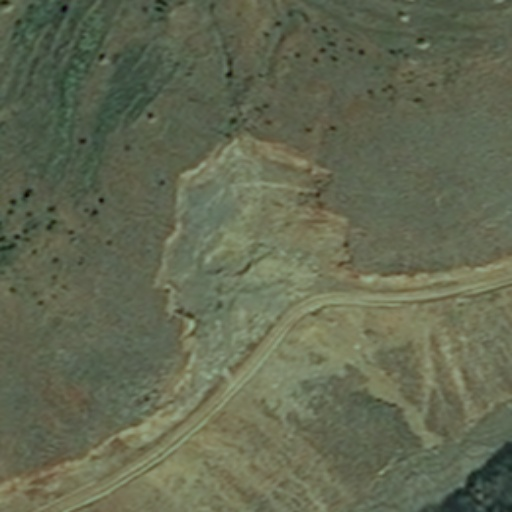landslide: (152, 137, 362, 368)
